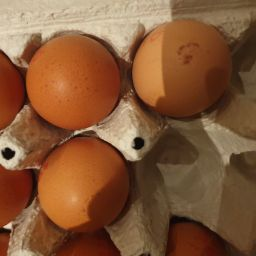Eggs: (125, 16, 239, 117), (32, 134, 130, 231), (29, 37, 121, 135), (1, 50, 26, 134), (1, 167, 33, 230)
